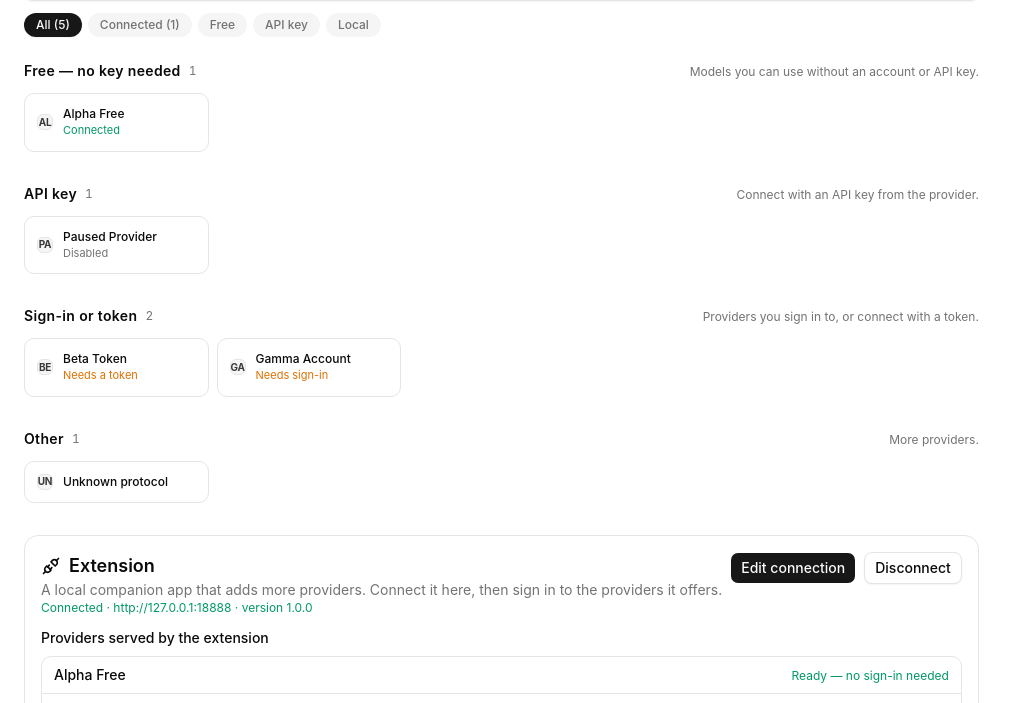
it: ModelsWorkspace › providers the extension serves › pastes a provider's token from its card
(page scrolled)
Click the button with aria-label "Manage Beta Token": {"x": 116, "y": 367} [24,338,209,396]
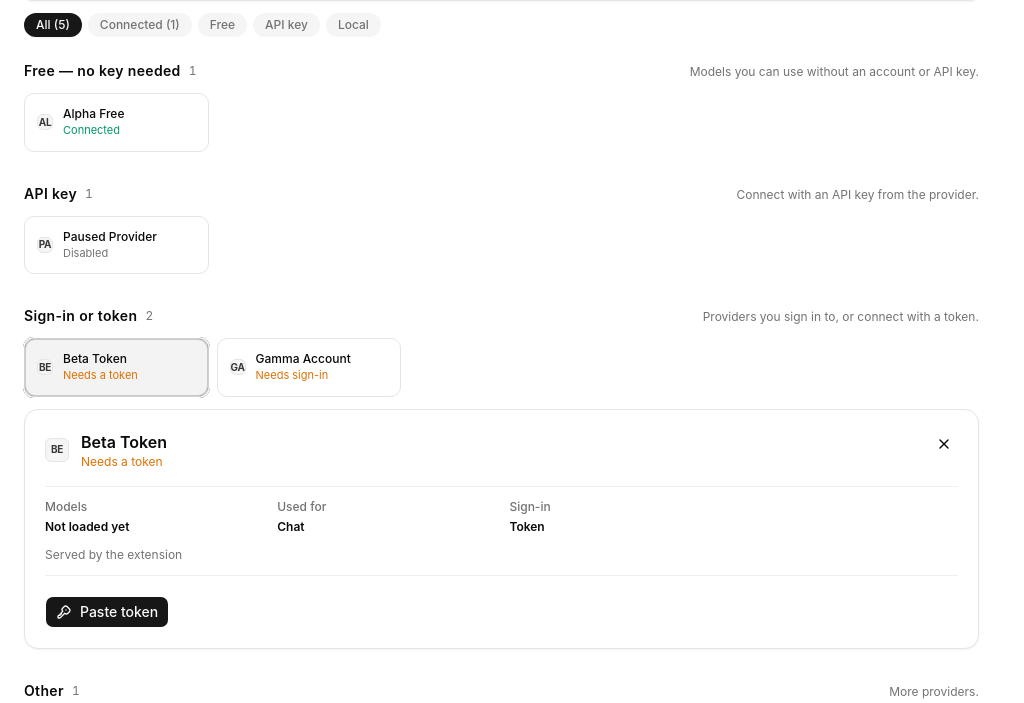
Click the button "Paste token": {"x": 107, "y": 612} [45,596,169,628]
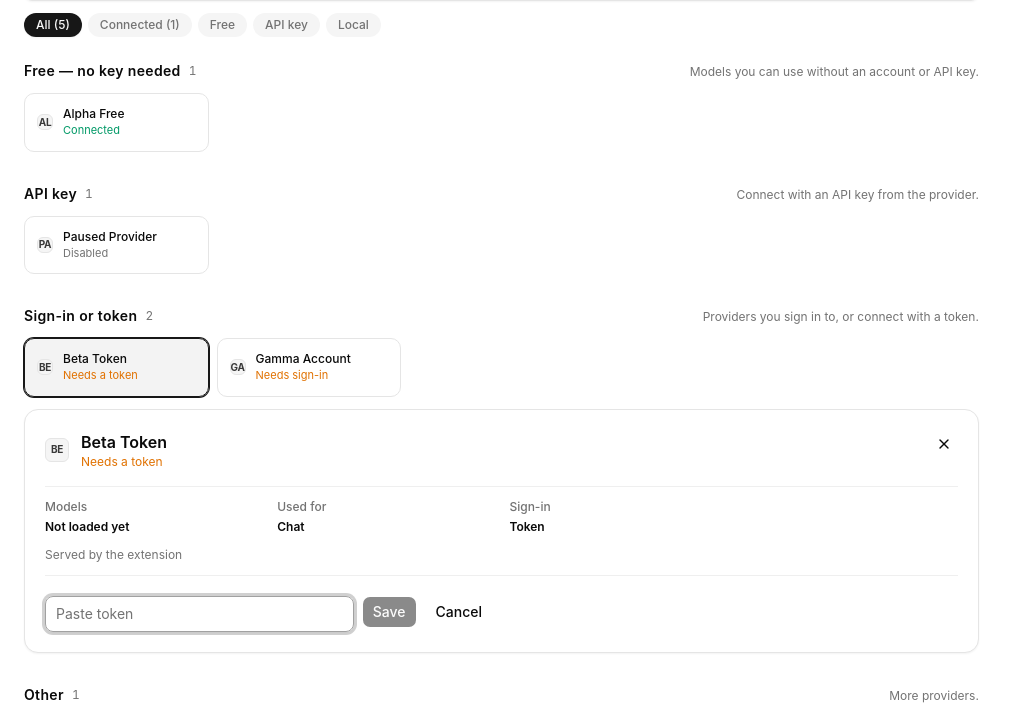
In the password field named "Token for Beta Token": {"x": 199, "y": 614} [45,596,354,632], type "tok-123"
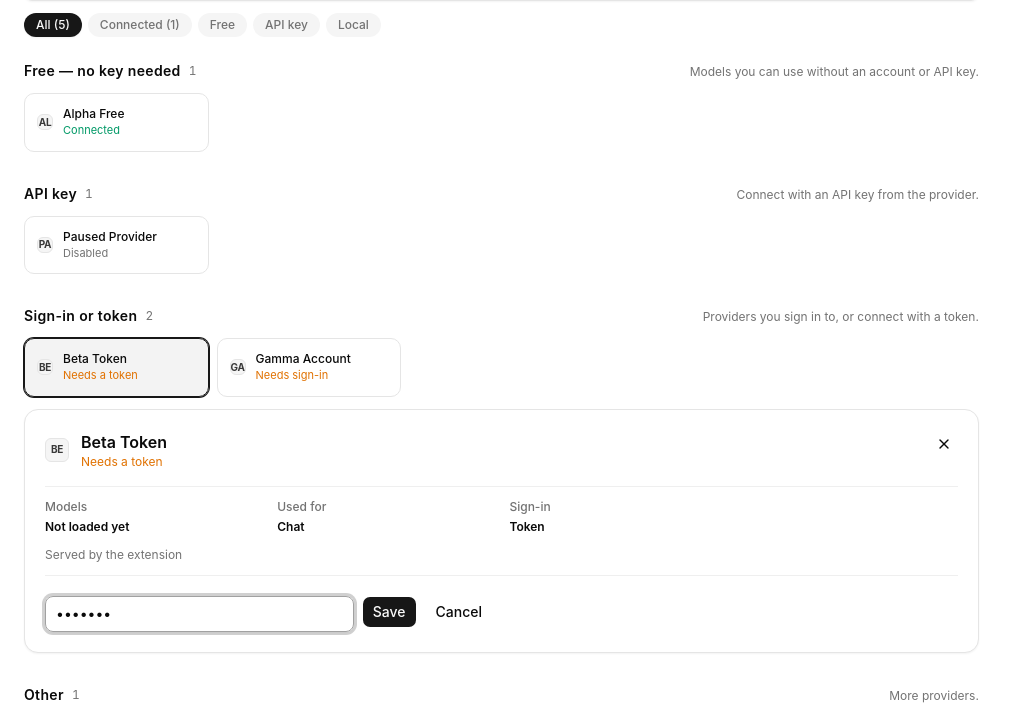
Click the button "Save": {"x": 389, "y": 612} [362,596,416,628]
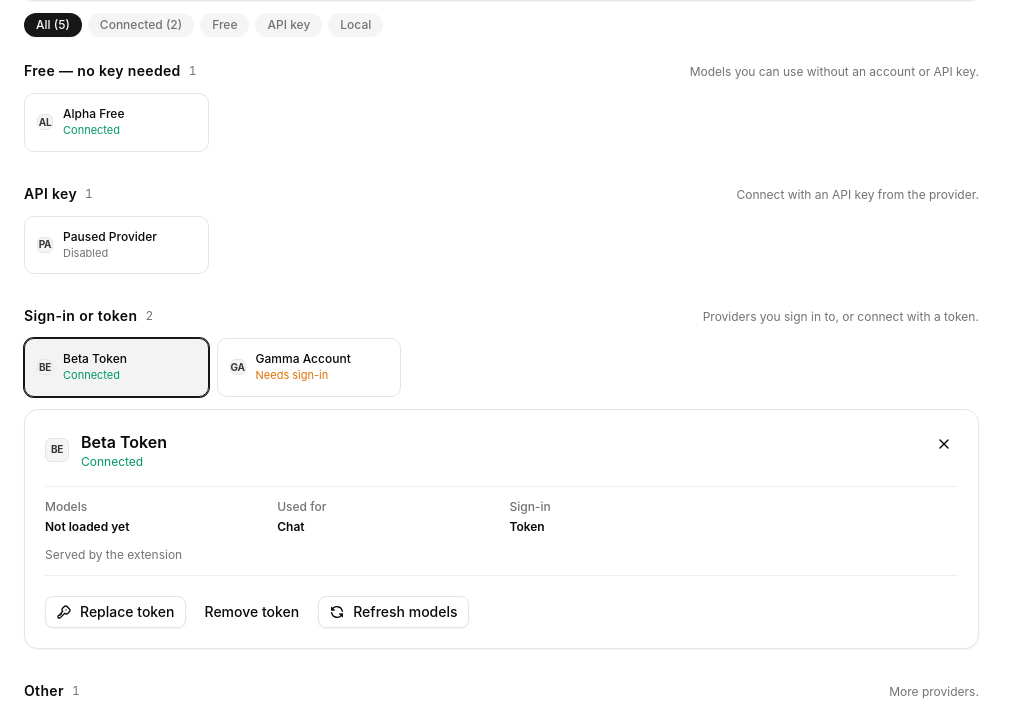
Expected: the button with aria-label "Manage Beta Token" shows "Connected", [24,338,209,396]
Expected: the button "Replace token" is shown, [45,596,186,628]
Expected: the button "Remove token" is shown, [194,596,310,628]
